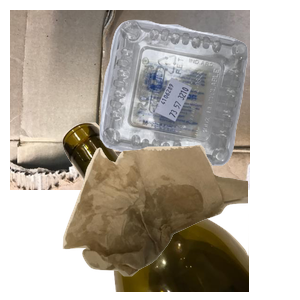cardboard: (10, 10, 250, 190)
glass: (60, 120, 300, 300)
plastic: (97, 17, 300, 176)
trash: (60, 142, 300, 300)
